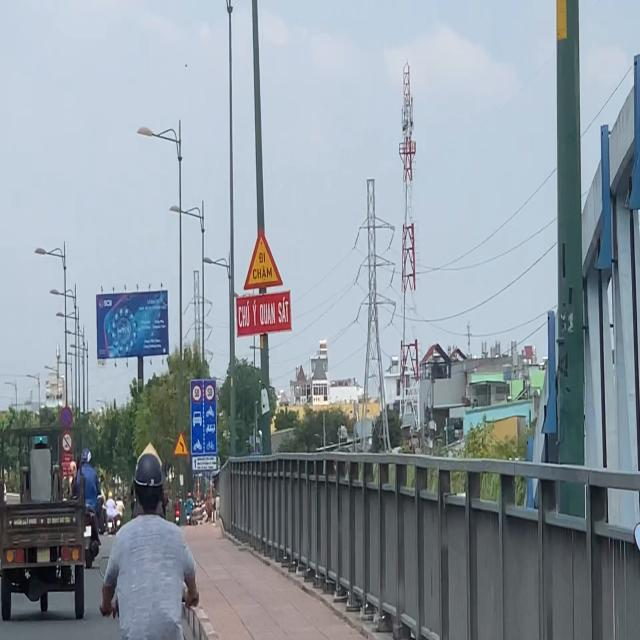Cam con lai: (62, 433, 72, 453)
Cam dung va do: (61, 406, 72, 429)
Nguy hiem: (243, 226, 283, 291), (174, 431, 189, 456)
Toc do toi da: (192, 384, 202, 402), (205, 384, 215, 402)
